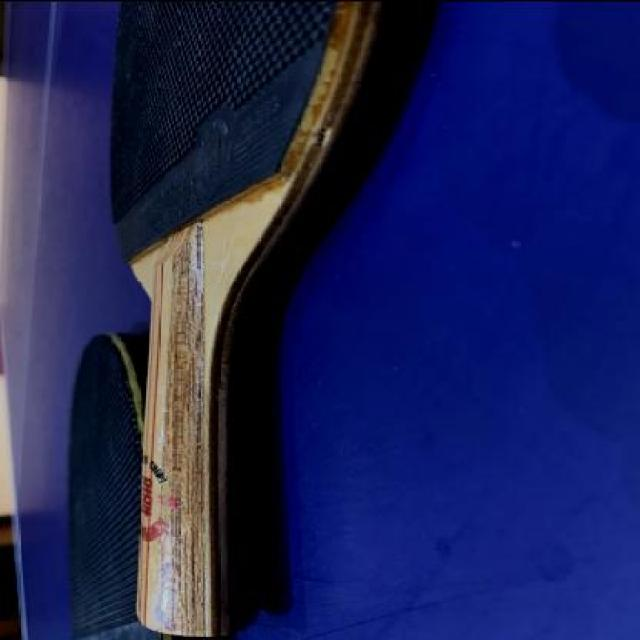table_tennis_racket: (100, 1, 417, 284), (60, 316, 168, 639)
